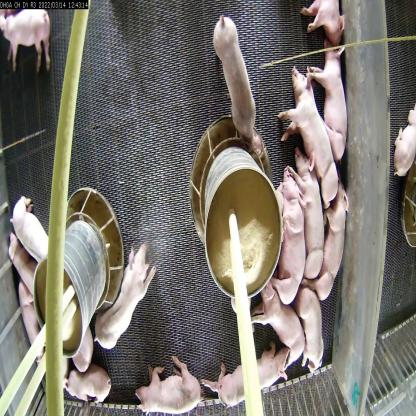Pig: (283, 63, 337, 204), (92, 244, 154, 354), (208, 346, 292, 415), (277, 157, 313, 303), (323, 24, 359, 164), (288, 146, 328, 272), (213, 16, 247, 138), (318, 171, 347, 307), (260, 275, 306, 357), (0, 0, 51, 70), (56, 340, 104, 410), (293, 271, 325, 375), (137, 356, 201, 408), (14, 183, 53, 256)
